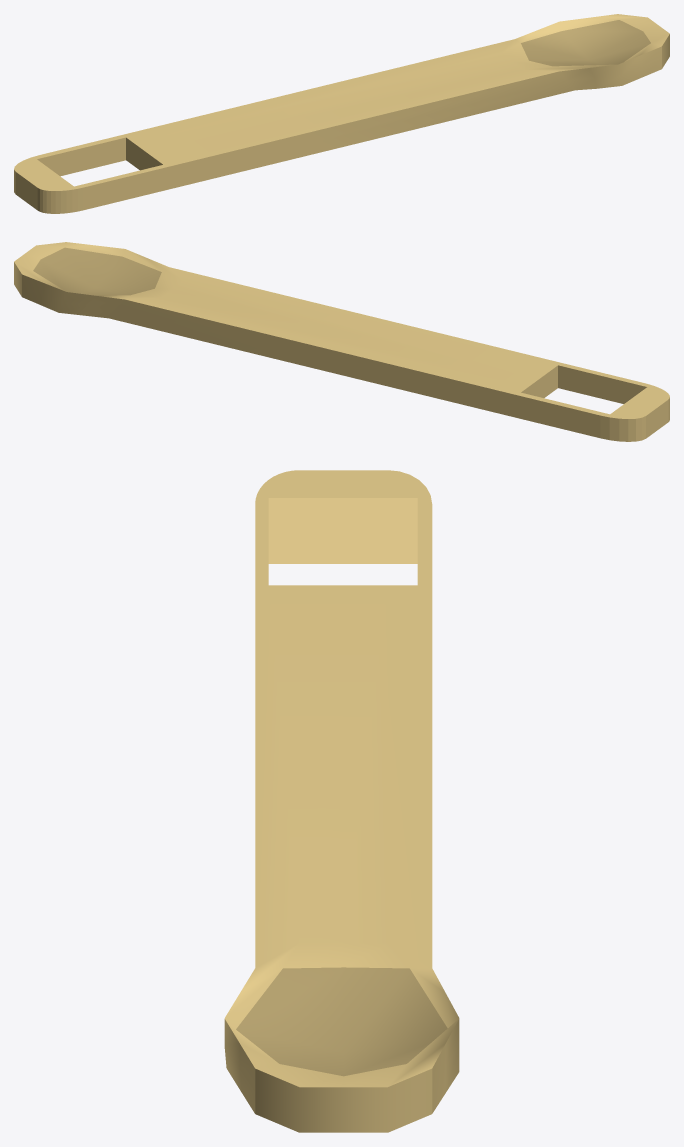
Rendered from StapicProduzen.fbx.
3 renders of one model, top to bottom at view 1: azimuth 30°, elevation 25°; view 2: azimuth 150°, elevation 25°; view 3: azimuth 270°, elevation 25°, orthographic. The views are drawn at different scales.
Parts seen in each view (by area): view 1: Cube.106; view 2: Cube.106; view 3: Cube.106.
Boxes of the visible parts, box(x1,y1,x2,y2) form: Cube.106: box(14, 14, 669, 213); Cube.106: box(14, 242, 669, 441); Cube.106: box(224, 470, 459, 1132).
Size of the model in its own units: 1.22 by 0.042 by 0.1962.
